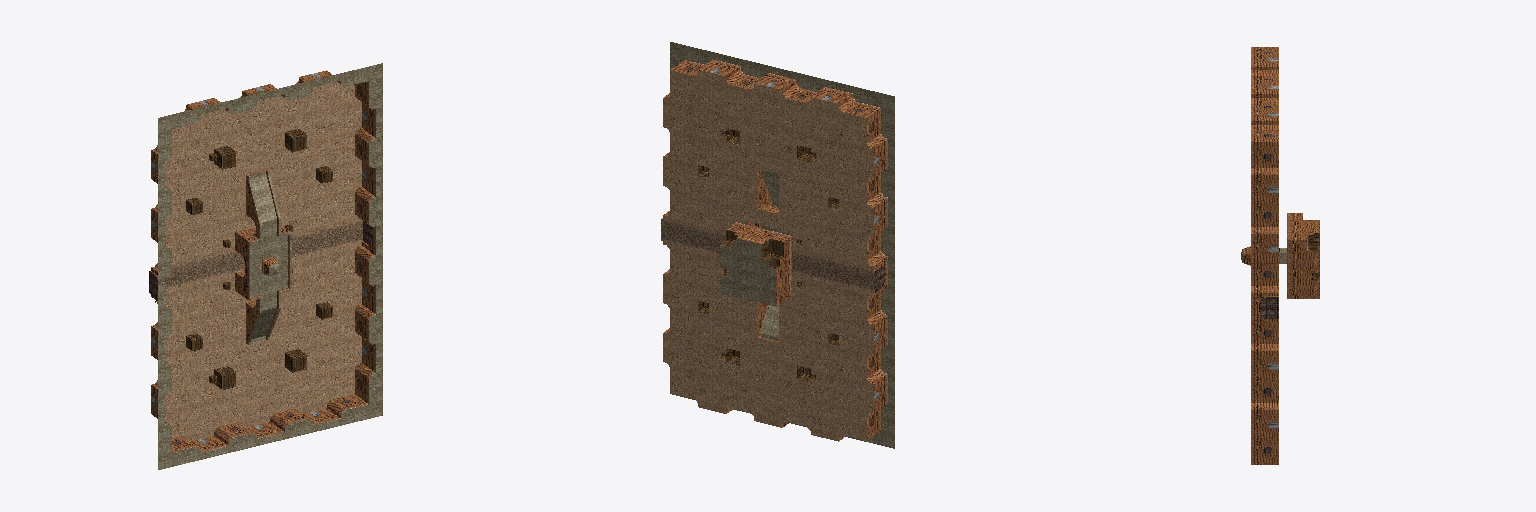
3 renders of one model, left to right at view 1: azimuth 30°, elevation 25°; view 2: azimuth 150°, elevation 25°; view 3: azimuth 270°, elevation 25°, orthographic.
Visible parts, largest first — view 1: BSP_Object.model_0; view 2: BSP_Object.model_0; view 3: BSP_Object.model_0.
Part boxes in pixels (left/top/right/bottom): BSP_Object.model_0: left=149, top=63, right=382, bottom=469; BSP_Object.model_0: left=661, top=42, right=894, bottom=448; BSP_Object.model_0: left=1241, top=47, right=1319, bottom=464.
Size of the model in its own units: 2048 by 3072 by 626.
Materials: 16 (16 with a texture image).